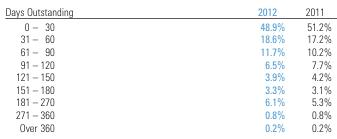table: (4, 3, 330, 133)
table column: (4, 3, 164, 133), (164, 3, 294, 133), (294, 3, 330, 133)
table column header: (4, 3, 330, 18)
table row: (4, 3, 330, 18), (4, 18, 330, 32), (4, 44, 330, 57), (4, 69, 330, 82), (4, 82, 330, 95), (4, 107, 330, 120), (4, 120, 330, 133), (4, 32, 330, 44), (4, 57, 330, 69), (4, 95, 330, 107)
